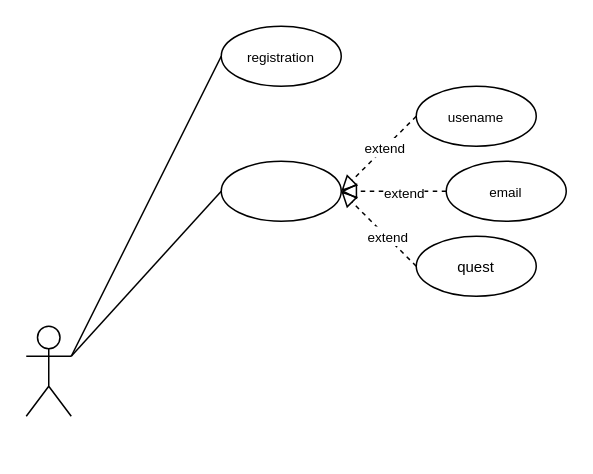
Image size: 593x474. Some labels were removed from this diagram. The centre of each missing label's shape, as x and y in pixels:
"authorization" goes at (x=280, y=190).
"User" goes at (x=48, y=370).
